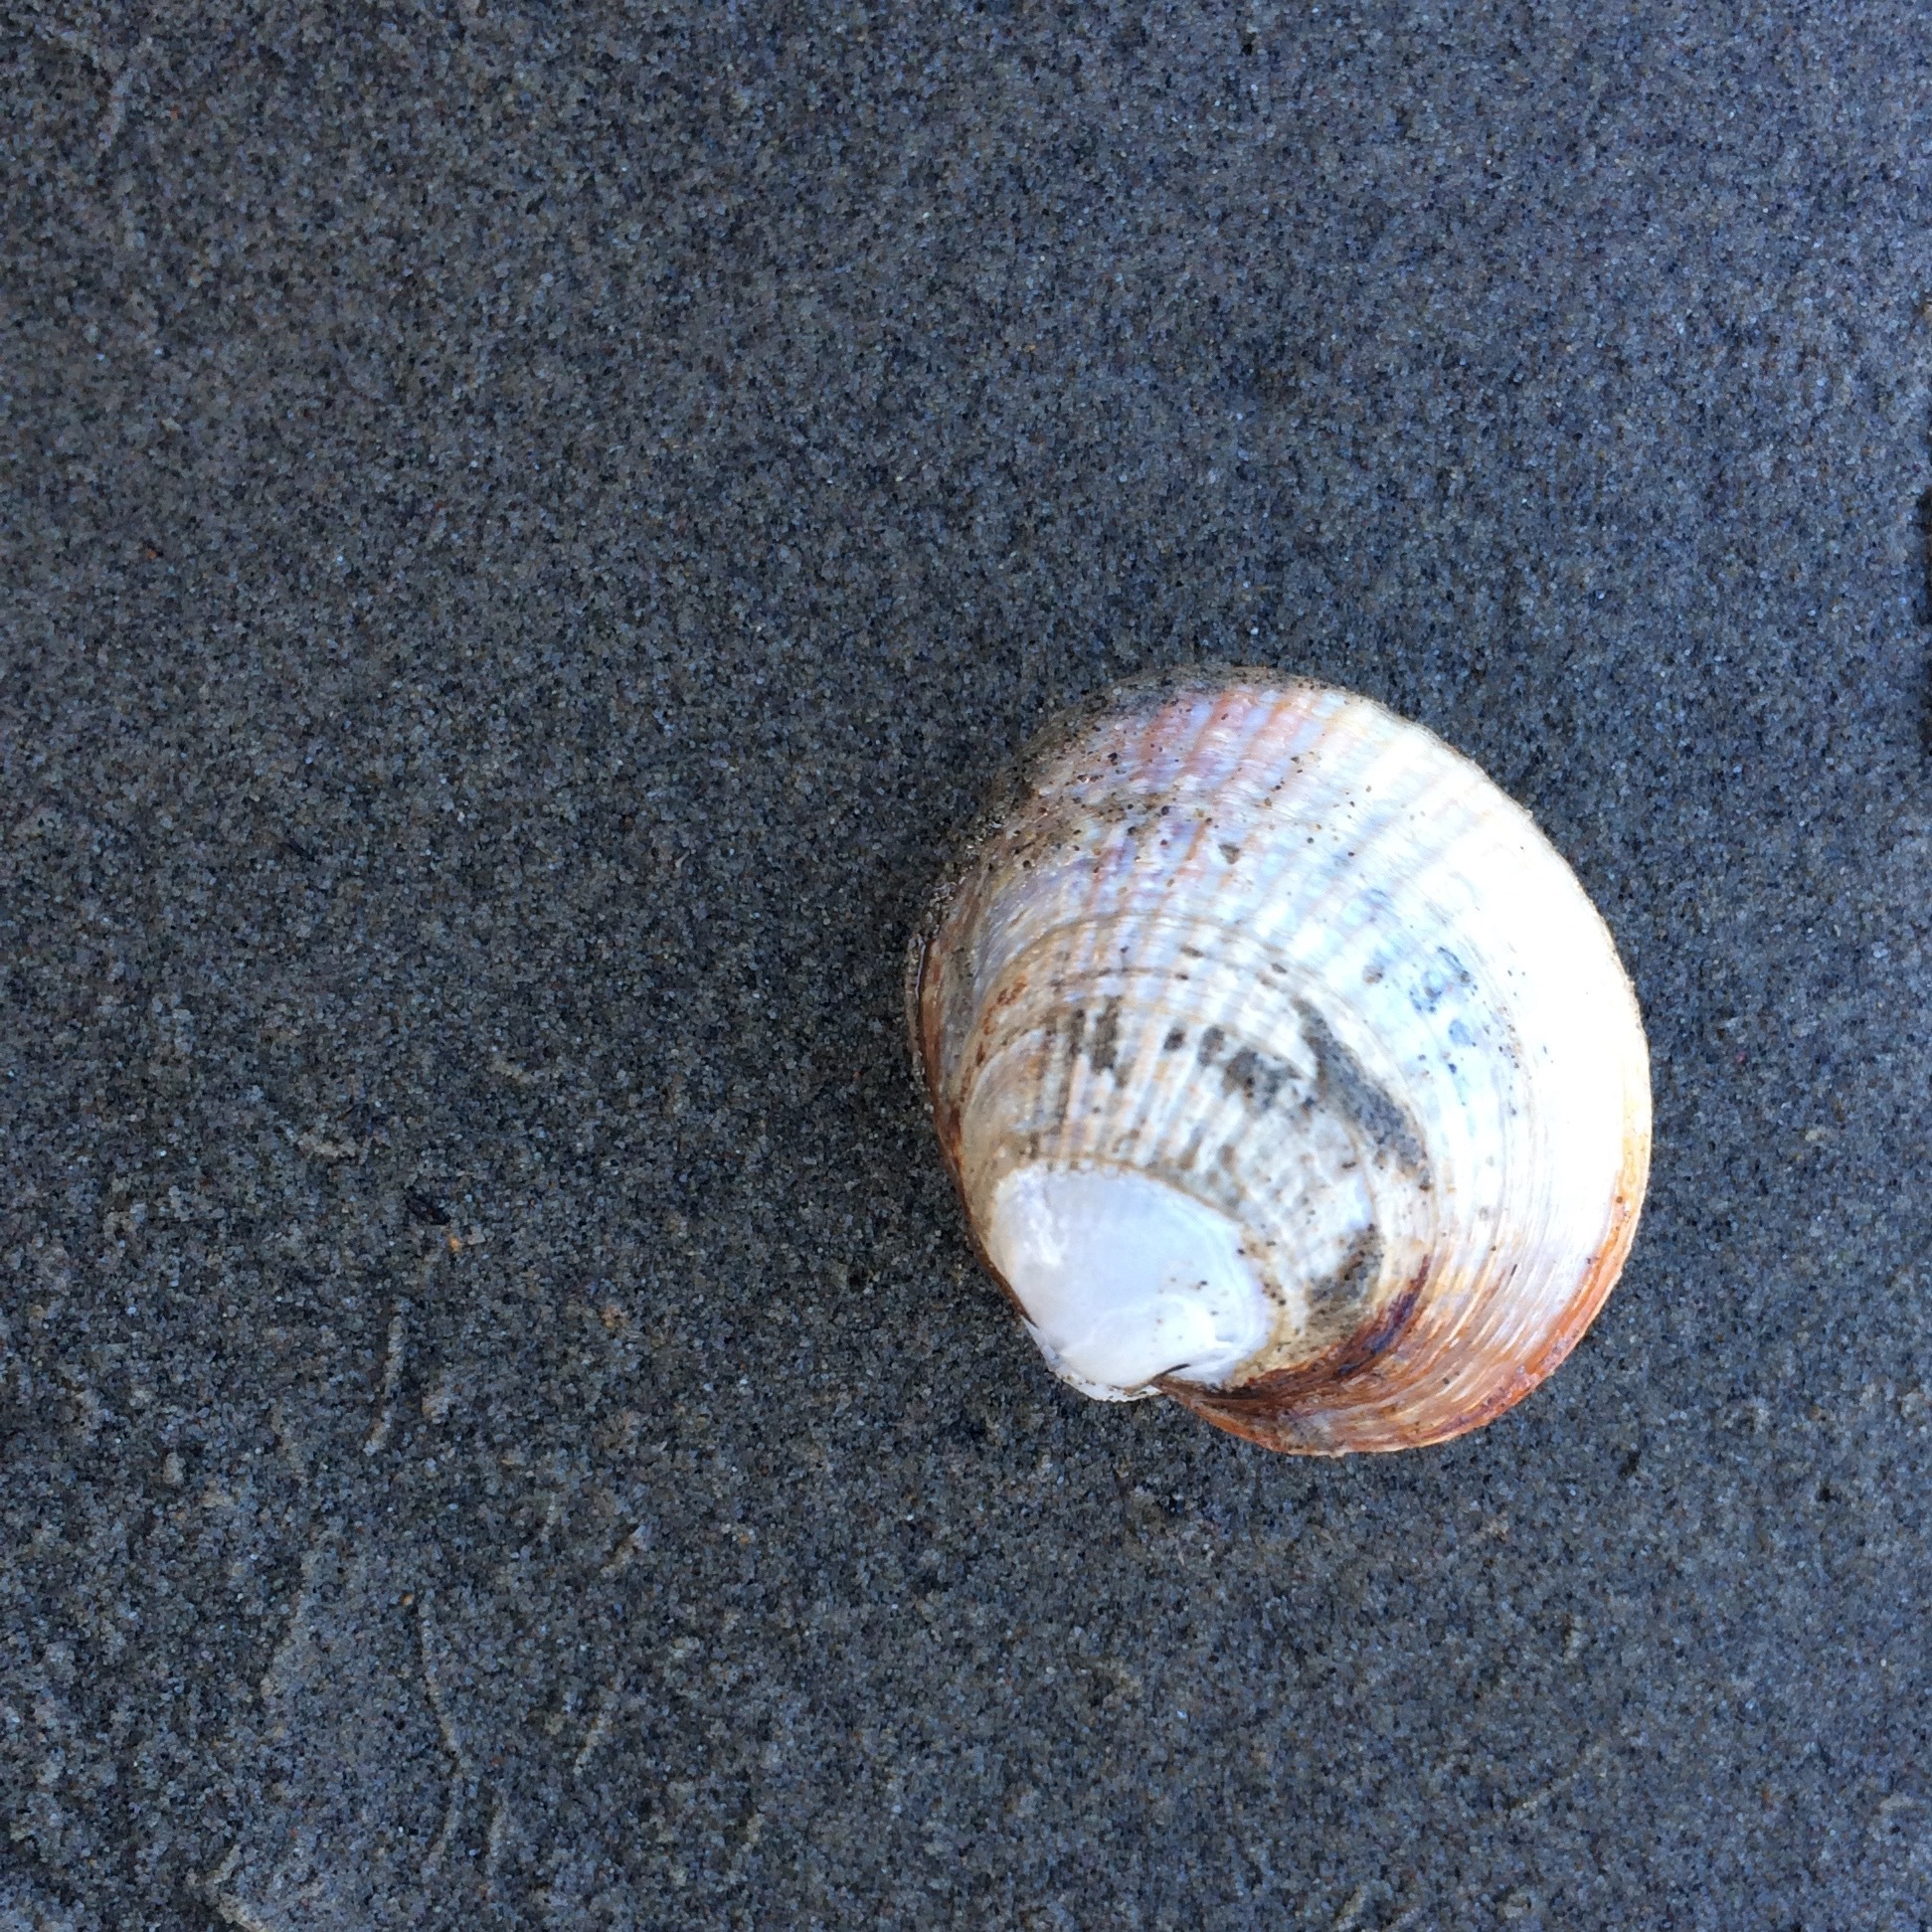cockle: (890, 639, 1654, 1468)
